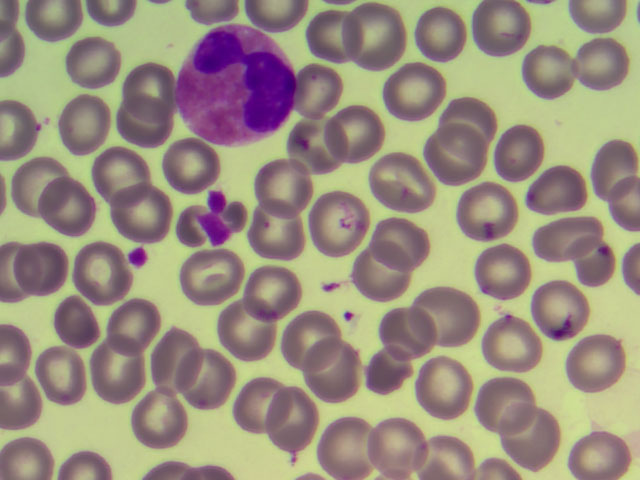Platelets: (125, 243, 162, 277), (205, 214, 226, 247), (206, 187, 224, 212)
RBC: (565, 421, 621, 480), (523, 46, 579, 105), (66, 35, 122, 93), (121, 51, 177, 109), (114, 98, 170, 156), (57, 96, 113, 154), (90, 140, 146, 198), (112, 180, 168, 238), (161, 132, 217, 190), (39, 176, 95, 234), (24, 161, 80, 219), (76, 238, 132, 296), (25, 233, 81, 291), (50, 295, 106, 353), (44, 331, 100, 389), (103, 354, 159, 412), (105, 308, 161, 366), (149, 326, 205, 384), (174, 349, 230, 407), (135, 389, 191, 447), (232, 376, 288, 434), (266, 391, 322, 449), (306, 350, 362, 408), (282, 315, 338, 373), (247, 258, 303, 316), (208, 298, 264, 356), (182, 258, 238, 316), (247, 212, 303, 270), (251, 164, 307, 222), (281, 120, 337, 178), (319, 107, 375, 165), (302, 61, 358, 119), (309, 13, 365, 71), (386, 58, 442, 116), (410, 12, 466, 70), (377, 152, 433, 210), (423, 136, 479, 194), (444, 89, 500, 147), (484, 122, 540, 180), (457, 188, 513, 246), (374, 211, 430, 269), (355, 243, 411, 301), (312, 190, 368, 248), (379, 306, 435, 364), (436, 295, 492, 353), (457, 238, 513, 296), (518, 221, 574, 279), (532, 152, 588, 210), (575, 141, 631, 199), (574, 232, 630, 290), (545, 274, 601, 332), (572, 338, 628, 396), (490, 316, 546, 374), (471, 371, 527, 429), (417, 364, 473, 422), (377, 412, 433, 470), (324, 415, 380, 473), (505, 419, 561, 477), (584, 35, 640, 93), (475, 7, 531, 65), (344, 1, 400, 58)
WBC: (174, 25, 303, 148)
